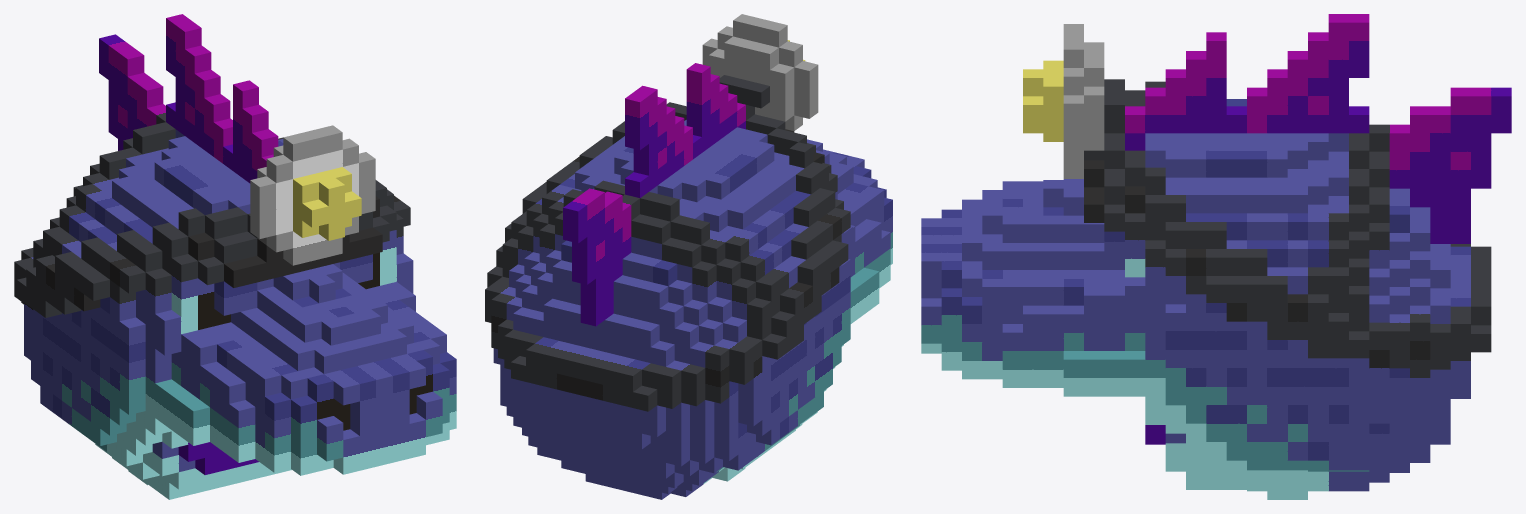
File: doctor.gltf
3 renders of one model, left to right at view 1: azimuth 30°, elevation 25°; view 2: azimuth 150°, elevation 25°; view 3: azimuth 270°, elevation 25°, orthographic. The views are drawn at different scales.
Parts seen in each view (by area): view 1: 04_Zilla_Head_Doctor-Mesh; view 2: 04_Zilla_Head_Doctor-Mesh; view 3: 04_Zilla_Head_Doctor-Mesh.
Part boxes in pixels (x1,y1,x2,y2): 04_Zilla_Head_Doctor-Mesh: (14, 14, 456, 499); 04_Zilla_Head_Doctor-Mesh: (485, 14, 892, 499); 04_Zilla_Head_Doctor-Mesh: (921, 14, 1511, 499).
Bounding box in the file's own units: 19 × 24 × 29.
Materials: 1 (1 with a texture image).
